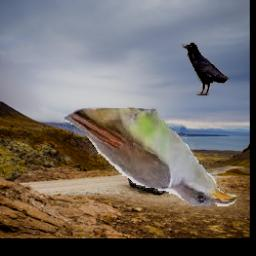Crow: (182, 41, 230, 96)
Cuckoo: (62, 97, 238, 207)
